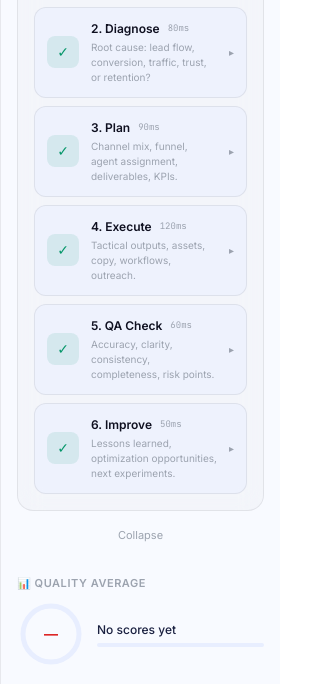
Test: Sidebar › oracle-loop-complete event listener › shows collapsed summary with step count and task preview
(page scrolled)
Click the button "Collapse" at (140, 535), box [17,518,264,551]
(page scrolled)
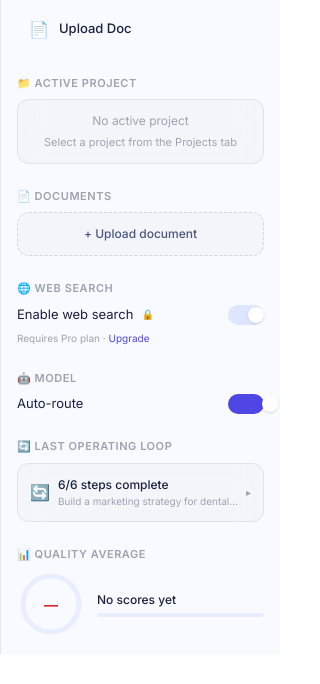
Expected: the text "Build a marketing strategy for dental clinic" is shown, [58,494,238,508]
Result: the text "6/6 steps complete" is shown at [58,476,169,492]
